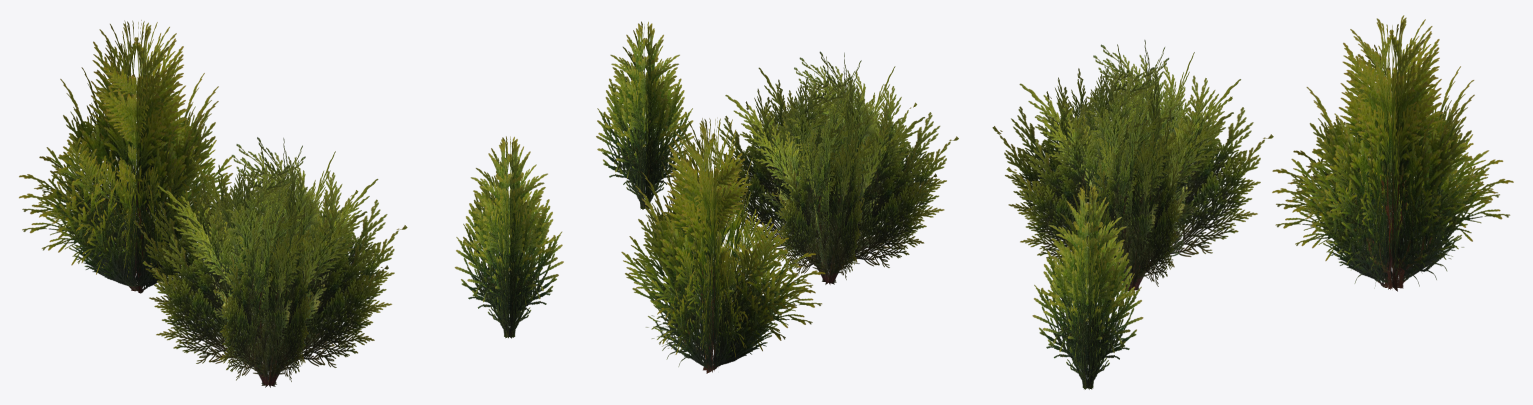
File: cypress.glb
3 views of the same model, side by side, from view 1: azimuth 30°, elevation 25°; view 2: azimuth 150°, elevation 25°; view 3: azimuth 270°, elevation 25° (orthographic). The views are drawn at different scales.
Parts seen in each view (by area): view 1: Plane001_Material #25_0; view 2: Plane001_Material #25_0; view 3: Plane001_Material #25_0.
Boxes of the visible parts, <box> form: Plane001_Material #25_0: <box>19,20,563,387</box>; Plane001_Material #25_0: <box>596,21,958,373</box>; Plane001_Material #25_0: <box>992,15,1513,389</box>.
Size of the model in its own units: 1.16 by 0.7617 by 1.35.
1 material, 1 textured.
